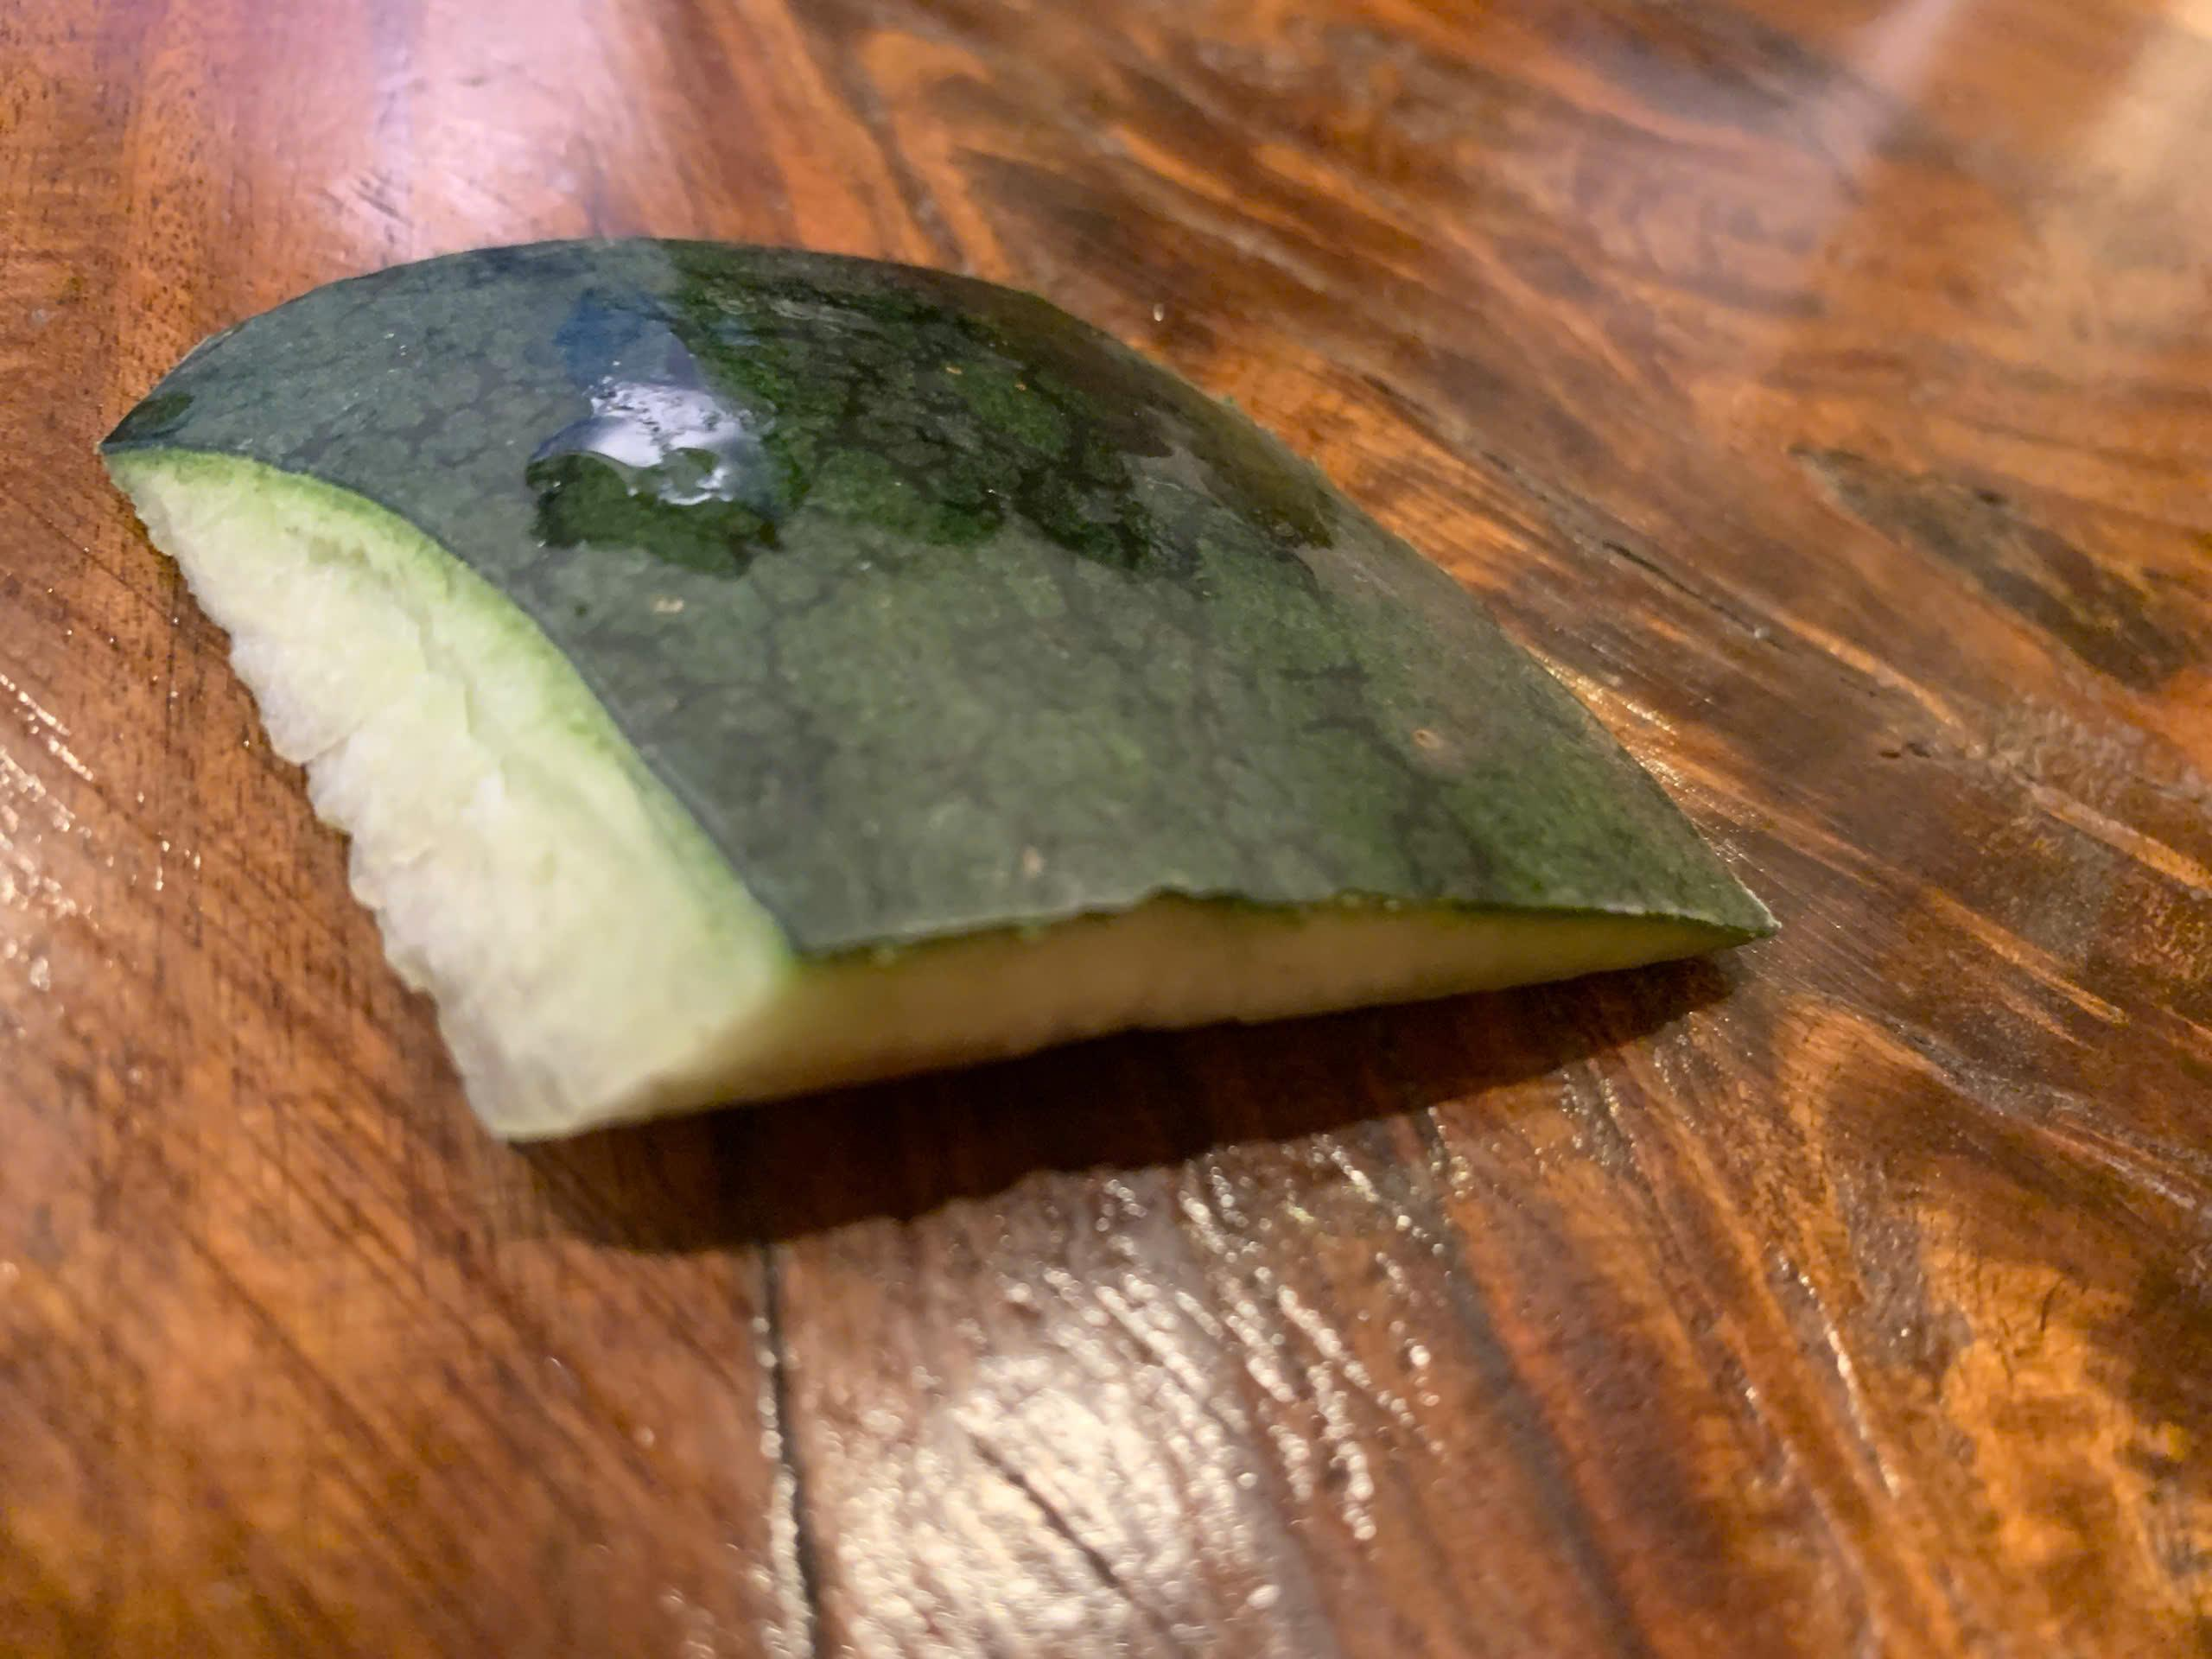Huu co: (105, 234, 1768, 1134)
